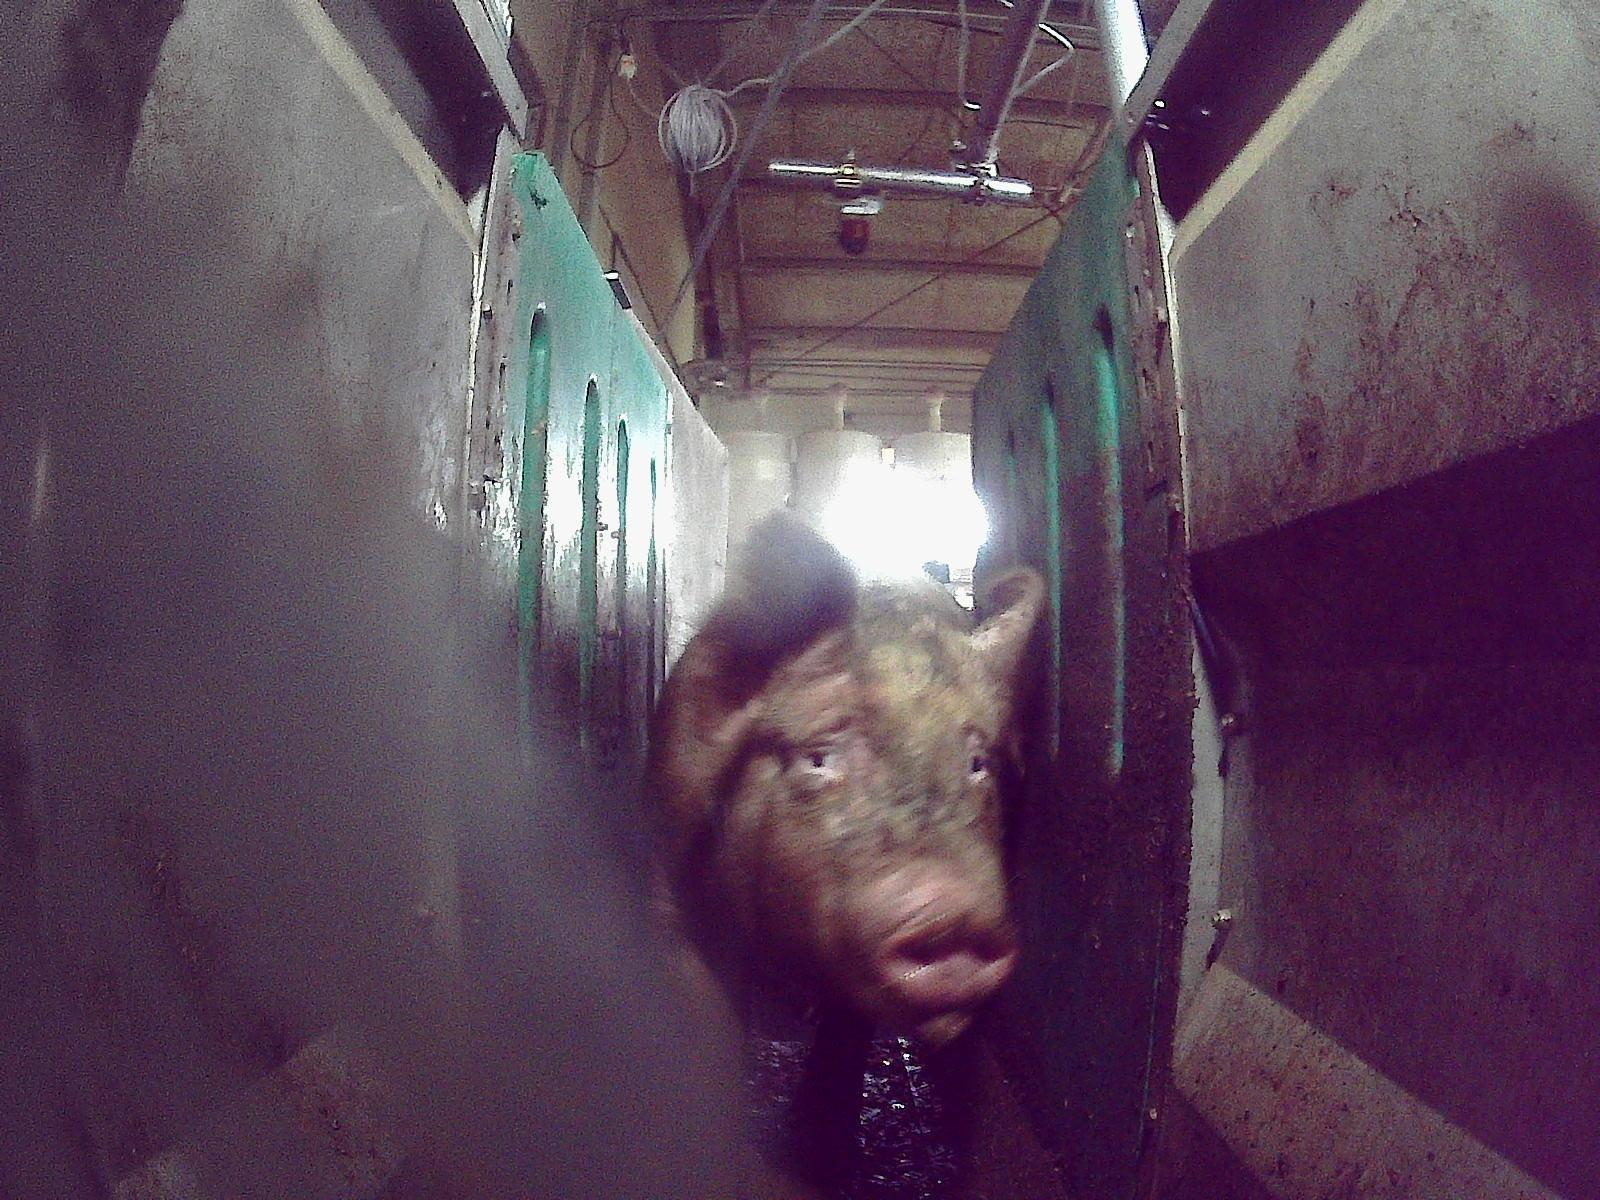Face: (726, 620, 1026, 1043)
